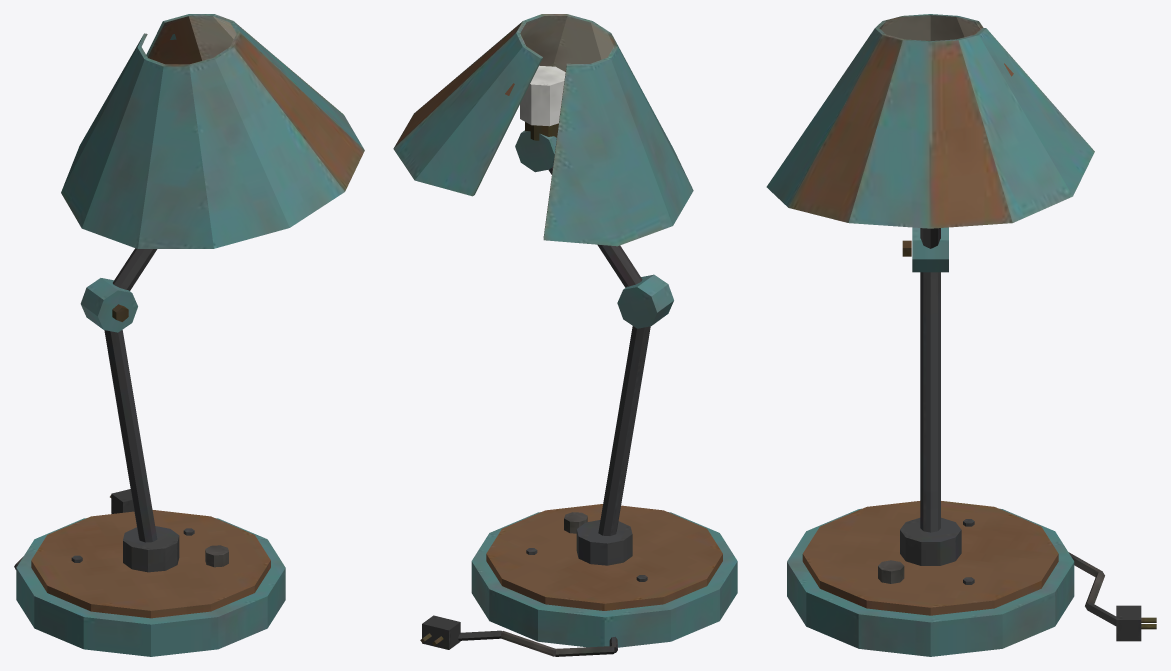
File: BR32_broken_lamp_v1.glb
3 views of the same model, side by side, from view 1: azimuth 30°, elevation 25°; view 2: azimuth 150°, elevation 25°; view 3: azimuth 270°, elevation 25° (orthographic). The views are drawn at different scales.
Parts seen in each view (by area): view 1: Weighted circular foot; view 2: Weighted circular foot; view 3: Weighted circular foot.
Boxes of the visible parts, x1,y1,x2,y2 form: Weighted circular foot: (14, 14, 364, 656); Weighted circular foot: (393, 14, 737, 656); Weighted circular foot: (766, 14, 1156, 656).
Bounding box in the file's own units: 0.2897 × 0.5 × 0.2962.
7 materials, 7 textured.
